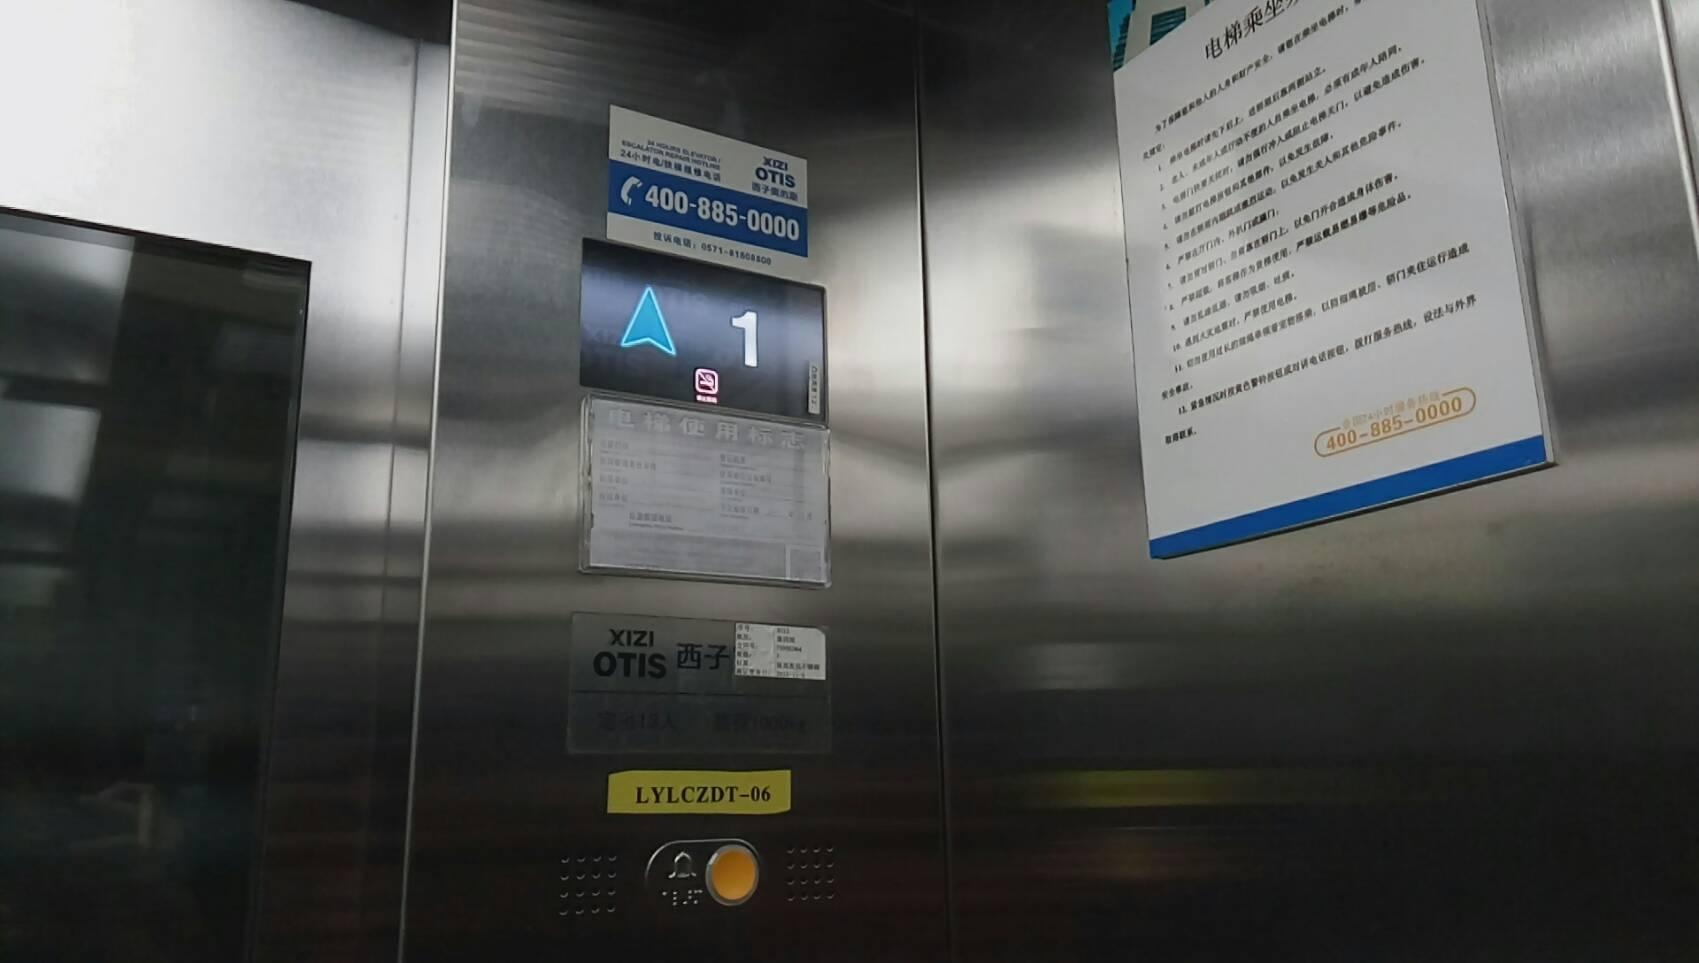alarm: (636, 833, 765, 919)
led: (565, 229, 846, 440)
